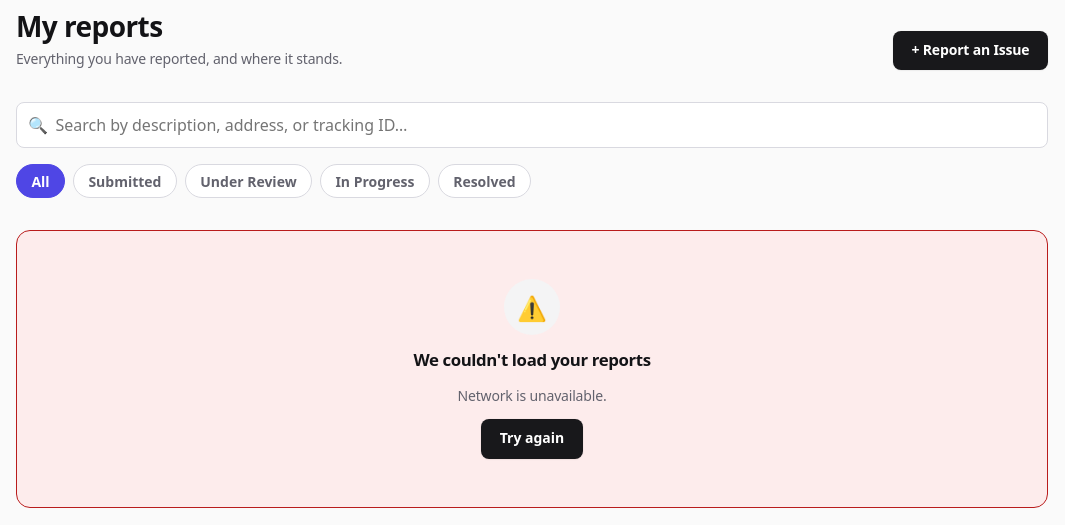
Test: MyReports › shows an error state with a retry action
The width and height of the screenshot is (1065, 525).
Check: the message shows "Network is unavailable", box 458,386 -> 606,405
Click the button "Try again" at (532, 439), box 481,419 -> 583,459
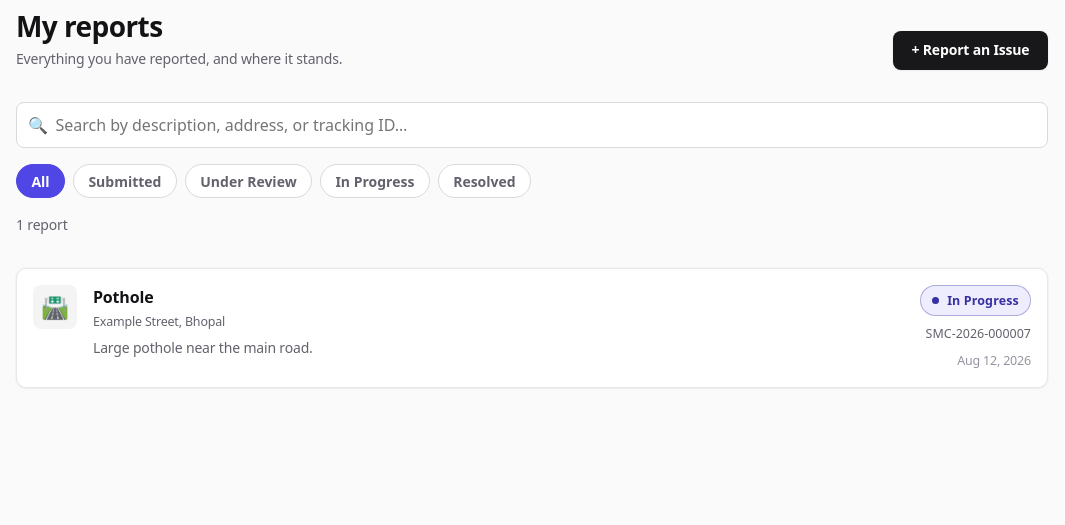
Check: the text "Pothole" is shown, box 93,286 -> 153,308
